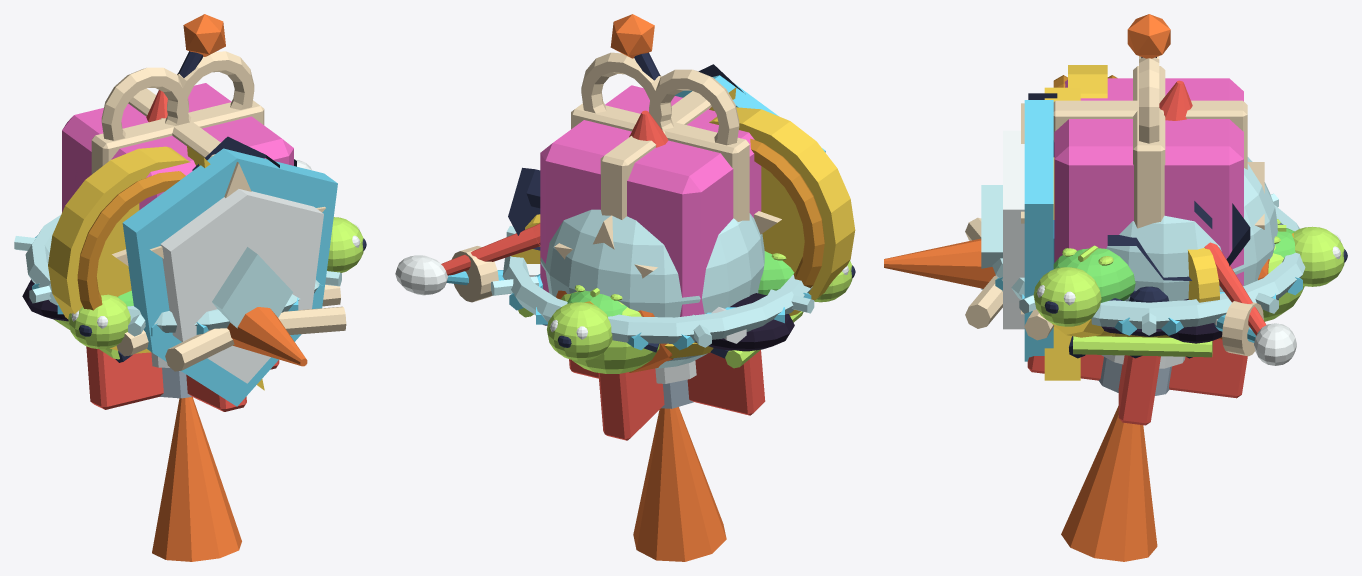
File: kart_powerups.glb
3 renders of one model, left to right at view 1: azimuth 30°, elevation 25°; view 2: azimuth 150°, elevation 25°; view 3: azimuth 270°, elevation 25°, orthographic. The views are drawn at different scales.
Visible parts, largest first — view 1: shield_PowerupWhite, shield_IceBlue, decoy_PowerupCream, rocket_CometOrange, magnet_SolarYellow, decoy_ParcelPink, rocket_RocketRed, boost_PowerupCream, triple_BeetleLime, magnet_CoinGoldShadow, pulse_IceCyan, shield_IceCyan (+7 smaller); view 2: decoy_ParcelPink, shield_IceCyan, decoy_PowerupCream, magnet_SolarYellow, rocket_CometOrange, rocket_RocketRed, pulse_IceCyan, triple_BeetleLime, magnet_CoinGoldShadow, shell_BeetleLime, decoy_PowerupInk, magnet_PowerupCream (+11 smaller); view 3: decoy_ParcelPink, shield_IceCyan, rocket_CometOrange, decoy_PowerupCream, rocket_RocketRed, shield_IceBlue, pulse_IceCyan, triple_BeetleLime, shield_PowerupWhite, boost_CometOrange, shell_BeetleLime, magnet_SolarYellow (+13 smaller).
Boxes of the visible parts, left/top/right/bottom form: shield_PowerupWhite: left=160, top=189, right=323, bottom=383; shield_IceBlue: left=122, top=148, right=337, bottom=406; decoy_PowerupCream: left=91, top=51, right=264, bottom=174; rocket_CometOrange: left=152, top=397, right=241, bottom=561; magnet_SolarYellow: left=48, top=146, right=190, bottom=353; decoy_ParcelPink: left=62, top=83, right=293, bottom=212; rocket_RocketRed: left=86, top=90, right=279, bottom=411; boost_PowerupCream: left=116, top=285, right=346, bottom=371; triple_BeetleLime: left=68, top=217, right=363, bottom=348; magnet_CoinGoldShadow: left=77, top=171, right=185, bottom=310; pulse_IceCyan: left=14, top=215, right=341, bottom=336; shield_IceCyan: left=212, top=247, right=292, bottom=353; decoy_ParcelPink: left=540, top=85, right=761, bottom=316; shield_IceCyan: left=540, top=209, right=764, bottom=368; decoy_PowerupCream: left=571, top=52, right=749, bottom=221; magnet_SolarYellow: left=511, top=107, right=855, bottom=316; rocket_CometOrange: left=633, top=407, right=726, bottom=561; rocket_RocketRed: left=569, top=110, right=765, bottom=440; pulse_IceCyan: left=491, top=226, right=814, bottom=347; triple_BeetleLime: left=547, top=253, right=852, bottom=360; magnet_CoinGoldShadow: left=750, top=138, right=824, bottom=288; shell_BeetleLime: left=518, top=291, right=803, bottom=373; decoy_PowerupInk: left=508, top=52, right=743, bottom=250; magnet_PowerupCream: left=451, top=211, right=781, bottom=302; decoy_ParcelPink: left=1054, top=78, right=1243, bottom=291; shield_IceCyan: left=981, top=157, right=1277, bottom=301; rocket_CometOrange: left=1061, top=406, right=1157, bottom=561; decoy_PowerupCream: left=1053, top=56, right=1247, bottom=228; rocket_RocketRed: left=1027, top=80, right=1247, bottom=425; shield_IceBlue: left=1024, top=100, right=1053, bottom=361; pulse_IceCyan: left=992, top=193, right=1305, bottom=335; triple_BeetleLime: left=1033, top=219, right=1344, bottom=326; shield_PowerupWhite: left=1003, top=130, right=1024, bottom=329; boost_CometOrange: left=884, top=238, right=1269, bottom=339; shell_BeetleLime: left=1073, top=245, right=1304, bottom=357; magnet_SolarYellow: left=1068, top=65, right=1219, bottom=302.
Size of the model in its own units: 2.32 by 3.34 by 2.57.
